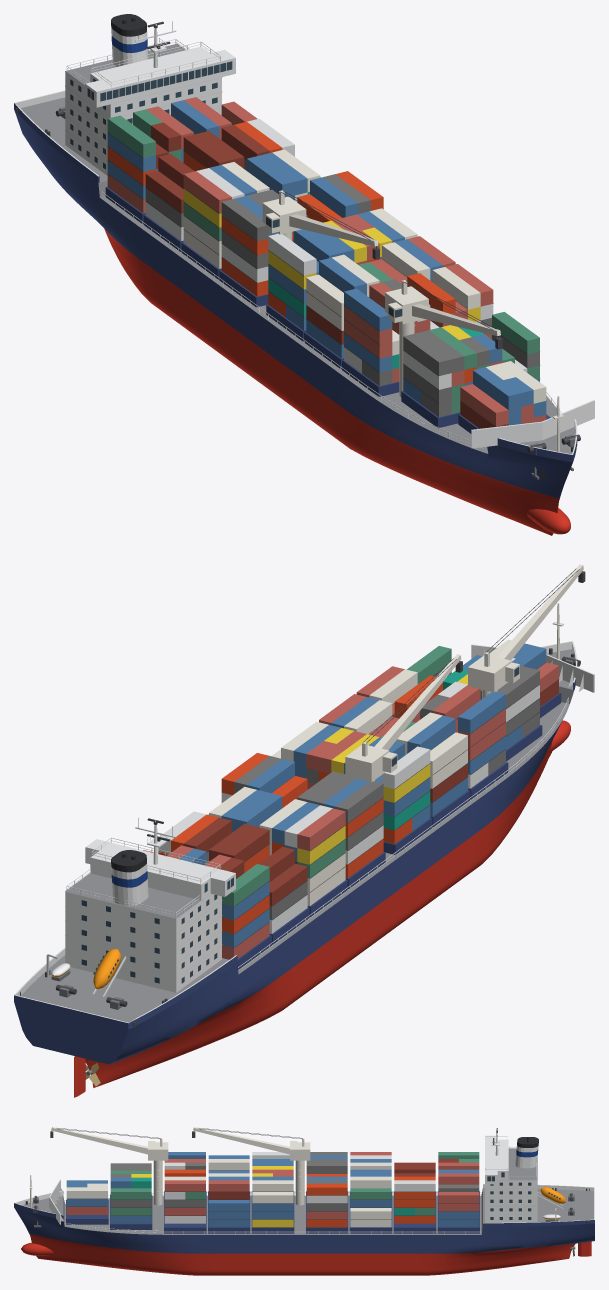
File: ambient_container_ship_close.fbx
The picture shows the model from 3 angles, top to bottom: view 1: azimuth 30°, elevation 25°; view 2: azimuth 150°, elevation 25°; view 3: azimuth 270°, elevation 25°; orthographic projection. The views are drawn at different scales.
Visible parts, largest first — view 1: ambient_container_ship_close; view 2: ambient_container_ship_close; view 3: ambient_container_ship_close.
Boxes of the visible parts, box(x1,y1,x2,y2) form: ambient_container_ship_close: box(14, 14, 594, 535); ambient_container_ship_close: box(14, 564, 594, 1097); ambient_container_ship_close: box(14, 1127, 594, 1275).
Bounding box in the file's own units: 27.66 × 42 × 172.
